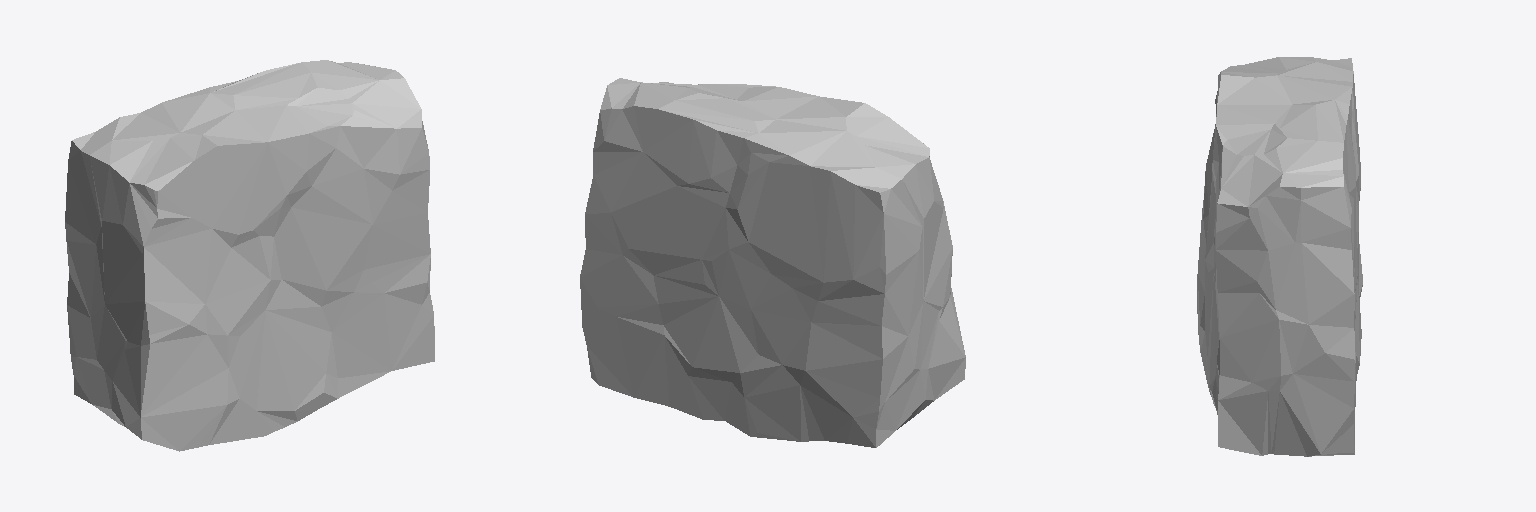
Rendered from rockTri.obj.
The picture shows the model from 3 angles: view 1: azimuth 30°, elevation 25°; view 2: azimuth 150°, elevation 25°; view 3: azimuth 270°, elevation 25°; orthographic projection.
Parts seen in each view (by area): view 1: low.002; view 2: low.002; view 3: low.002.
Boxes of the visible parts, x1,y1,x2,y2 form: low.002: [65, 60, 434, 451]; low.002: [580, 78, 965, 447]; low.002: [1197, 57, 1362, 456].
Size of the model in its own units: 9.19 by 8.48 by 4.23.